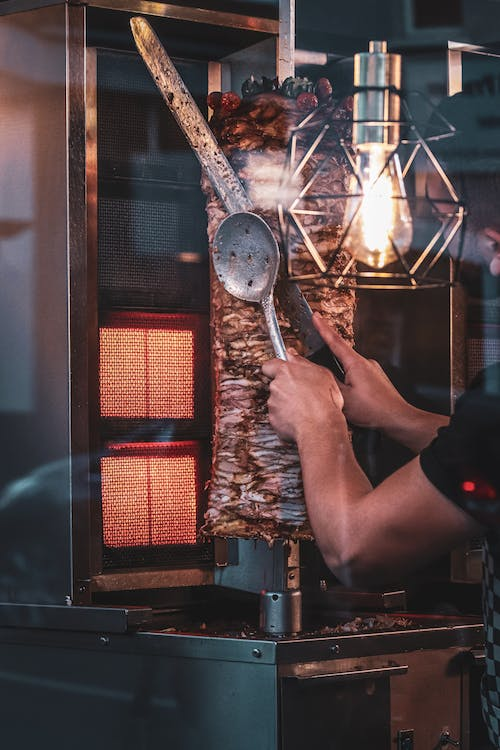knife: (125, 12, 349, 384)
